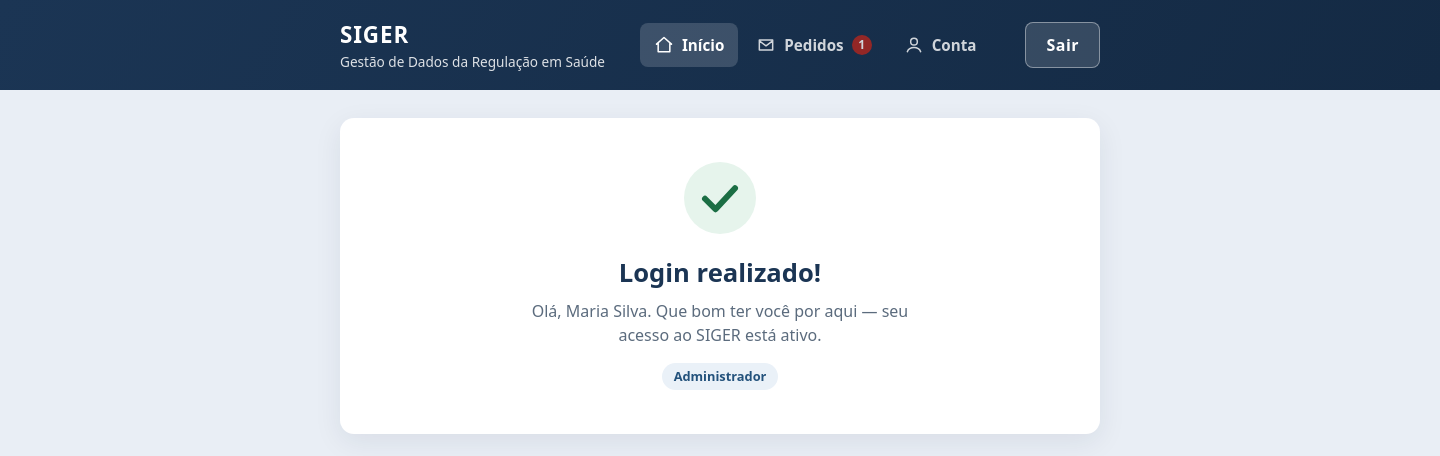
Scenario: AC-12 e AC-13 administrador vê a contagem, o pedido mascarado e gera a senha temporária
Expected: the text named "1 pendentes" is shown, [852, 35, 872, 55]
Step 1. Click the link "Pedidos 1" → (814, 45), box [756, 35, 872, 55]
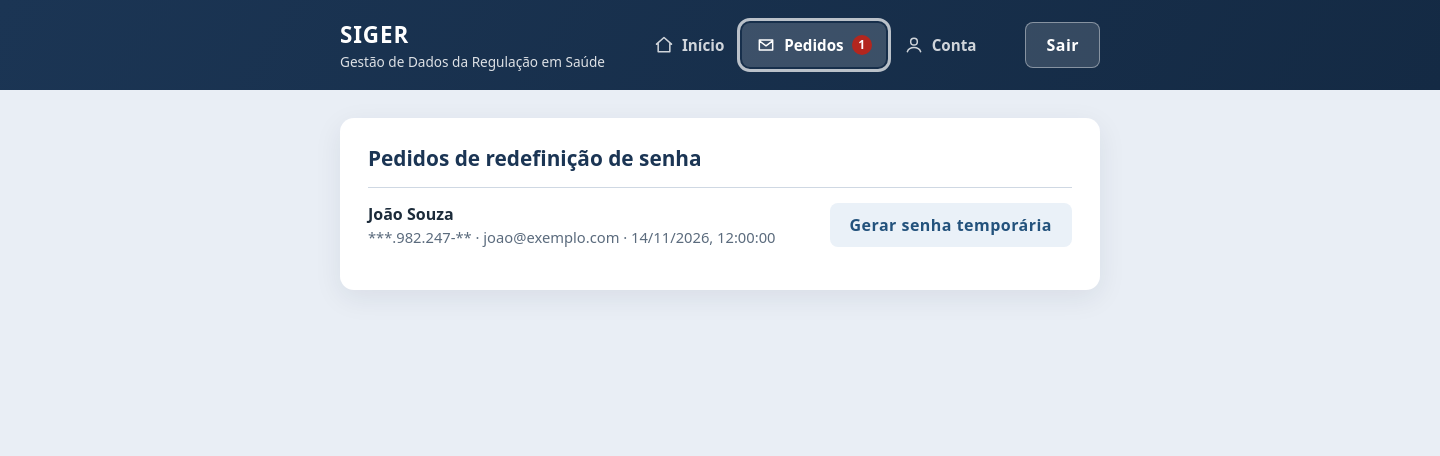
Now the text "João Souza" is shown, box [368, 203, 454, 225]
Now the text "***.982.247-** · joao@exemplo.com · 14/11/2026, 12:00:00" is shown, box [368, 226, 776, 248]
Step 2. Click the button "Gerar senha temporária" → (951, 225), box [830, 203, 1072, 247]
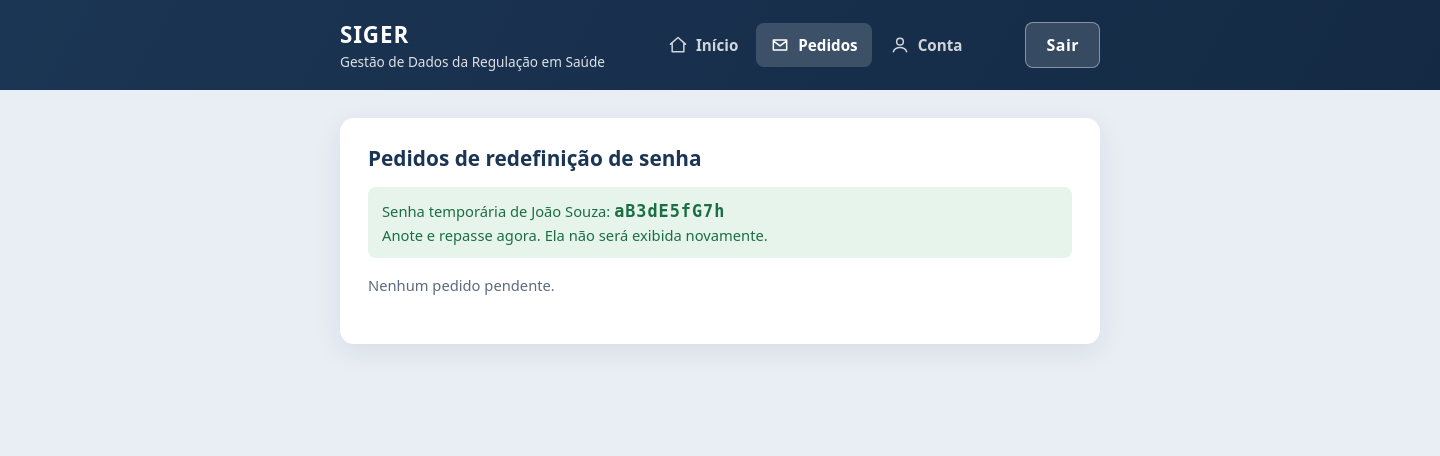
Now the text "aB3dE5fG7h" is shown, box [614, 201, 725, 221]
Now the text "Nenhum pedido pendente." is shown, box [368, 275, 555, 295]
